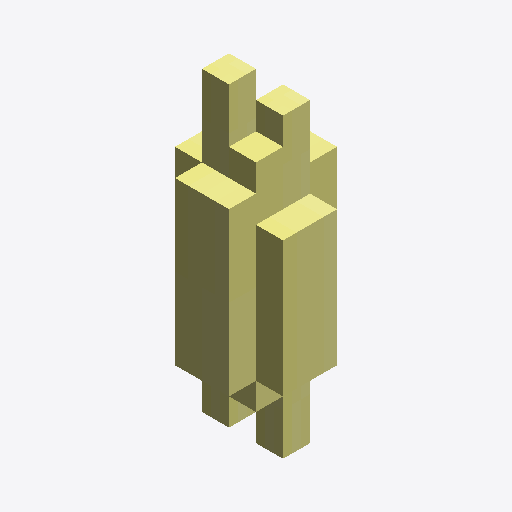
A Minecraft block model of 8 cuboids, rendered isometrically (azimuth 45°, elevation 35.3°) with the resource pack's own textures.
Visible parts, largest first — element 7, element 5, element 4, element 3, element 1, element 8, element 6.
Boxes of the visible parts, x1,y1,x2,y2 form: element 7: [175, 163, 255, 395]; element 5: [256, 194, 336, 395]; element 4: [256, 85, 309, 457]; element 3: [202, 54, 255, 426]; element 1: [229, 132, 282, 411]; element 8: [310, 131, 336, 208]; element 6: [175, 131, 201, 177].
Size of the model in its own units: 4 by 12 by 4.